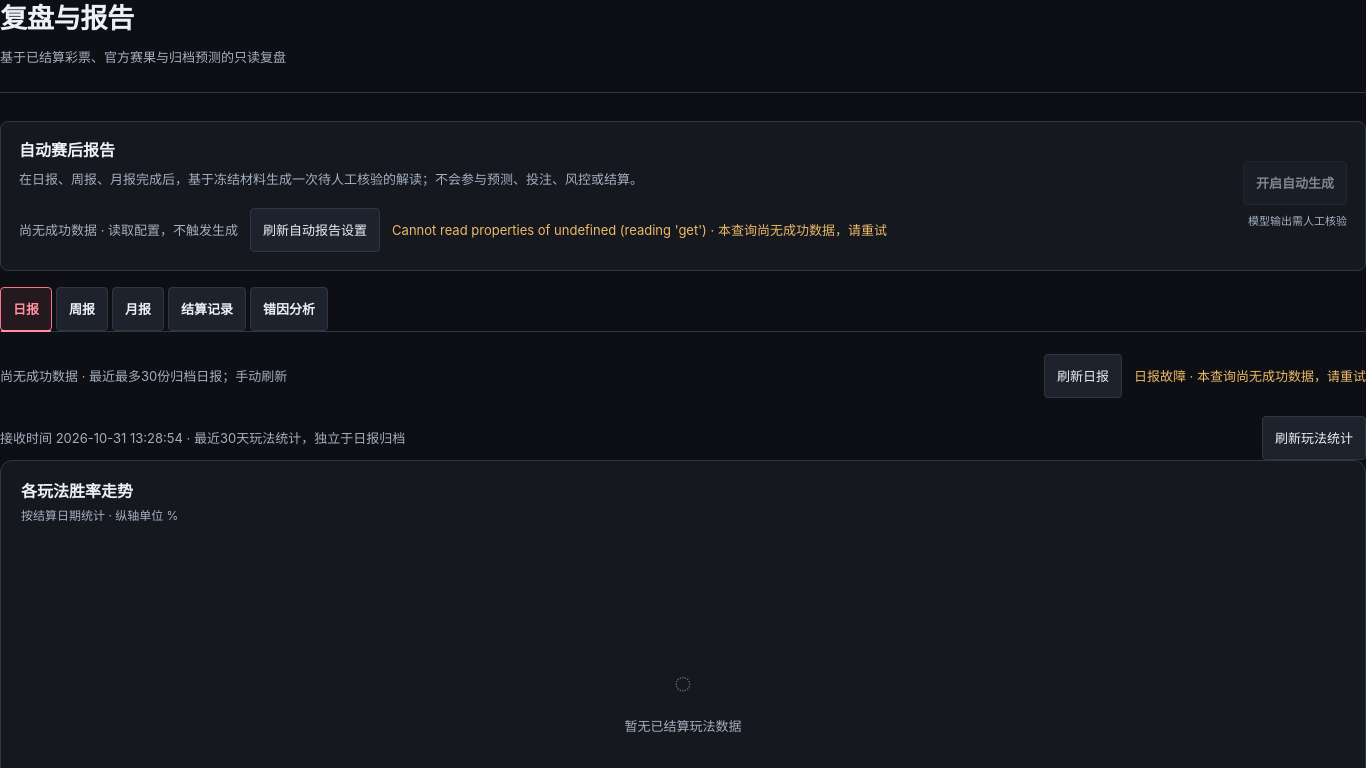
ReviewsPage › 日报失败可独立恢复，无需重载页面
Expected: the text "日报故障 · 本查询尚无成功数据，请重试" is shown, [1134,365,1365,387]
Expected: the text "暂无日报数据" is not shown
Click the button "刷新日报".
click(1083, 376)  # box [1044,354,1122,398]
(page scrolled)
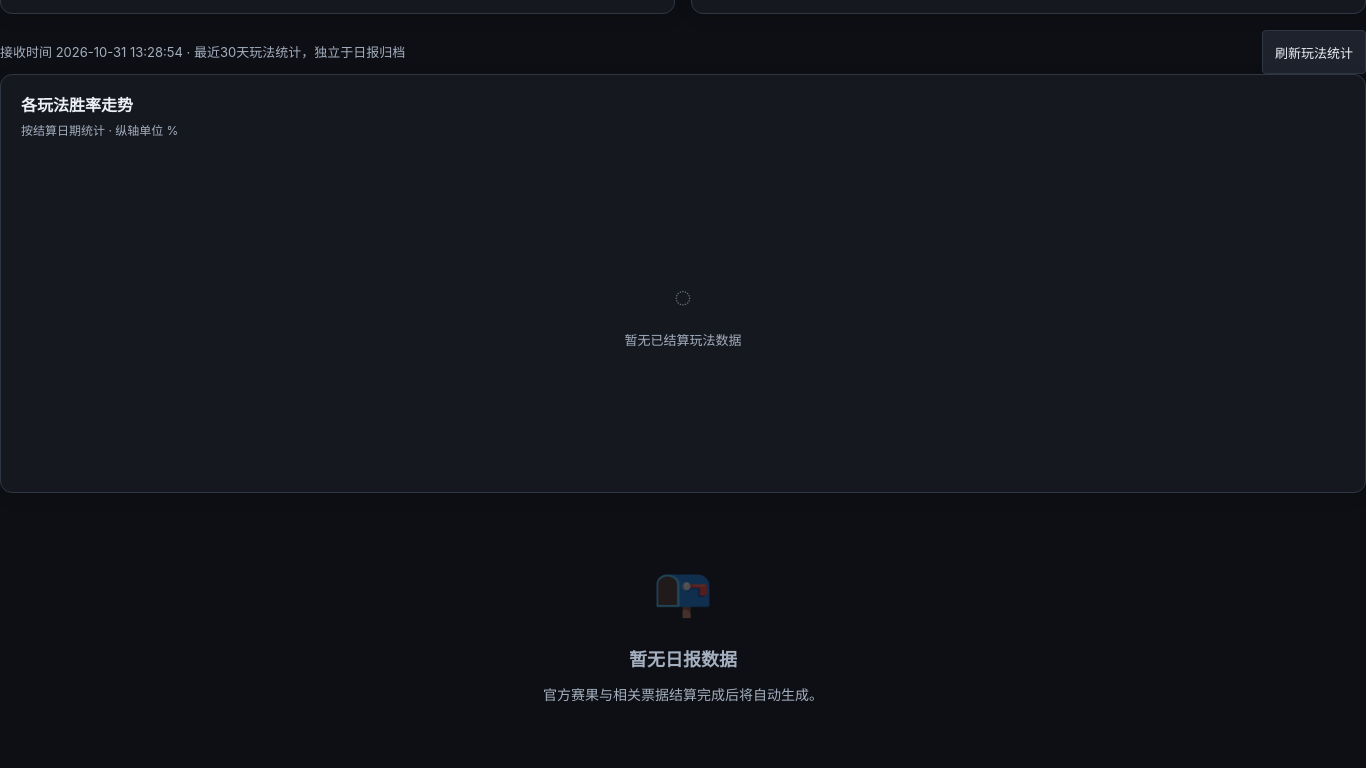
Result: the text "暂无日报数据" is shown at [629,646,737,674]
